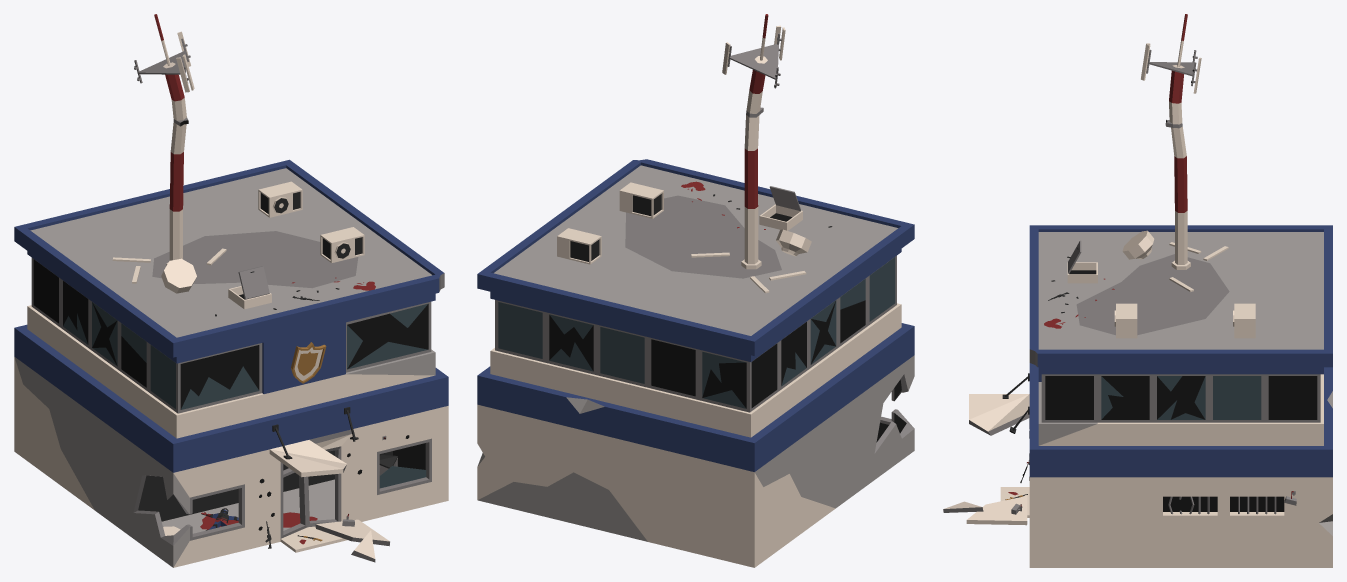
Rendered from apocalypse_building-policestation-apocalypse.fbx.
3 views of the same model, side by side, from view 1: azimuth 30°, elevation 25°; view 2: azimuth 150°, elevation 25°; view 3: azimuth 270°, elevation 25° (orthographic). The views are drawn at different scales.
Parts seen in each view (by area): view 1: apocalypse_building_policestation_apocalypse; view 2: apocalypse_building_policestation_apocalypse; view 3: apocalypse_building_policestation_apocalypse.
Part boxes in pixels (x1,y1,x2,y2): apocalypse_building_policestation_apocalypse: (14,14,448,567); apocalypse_building_policestation_apocalypse: (477,14,914,567); apocalypse_building_policestation_apocalypse: (943,14,1332,567).
Size of the model in its own units: 124 by 200 by 155.
